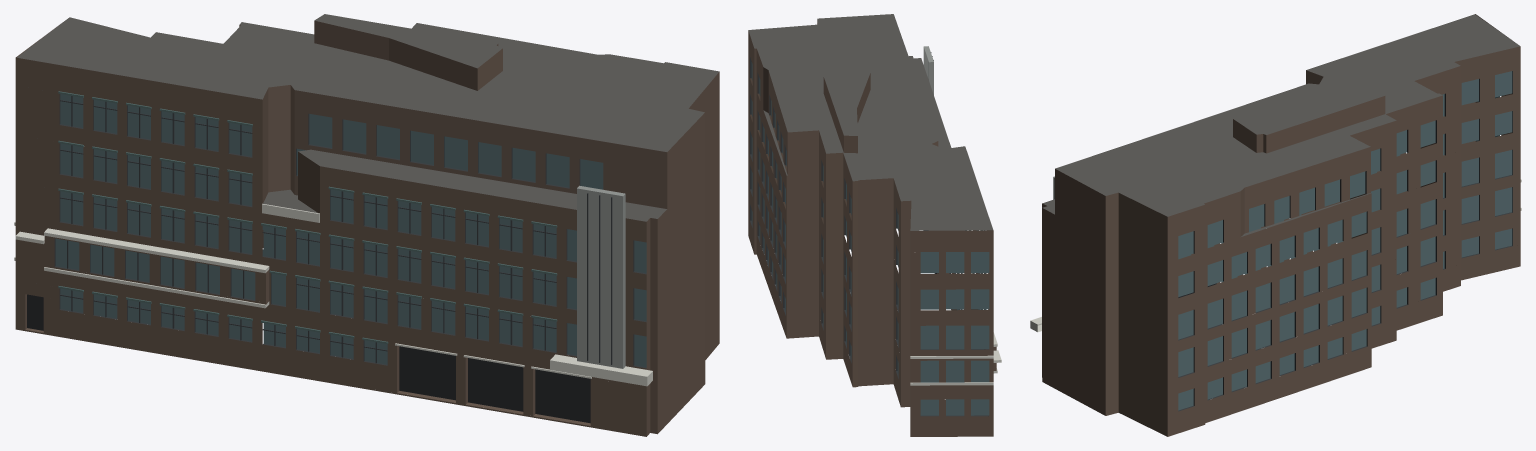
The model's file is politie-lijnbaansgracht.glb.
The picture shows the model from 3 angles, left to right: view 1: azimuth 30°, elevation 25°; view 2: azimuth 150°, elevation 25°; view 3: azimuth 270°, elevation 25°; orthographic projection. The views are drawn at different scales.
Parts seen in each view (by area): view 1: politie-lijnbaansgracht; view 2: politie-lijnbaansgracht; view 3: politie-lijnbaansgracht.
Boxes of the visible parts, x1=… form: politie-lijnbaansgracht: x1=14, y1=14, x2=719, y2=436; politie-lijnbaansgracht: x1=748, y1=14, x2=1001, y2=436; politie-lijnbaansgracht: x1=1030, y1=14, x2=1521, y2=436.
Size of the model in its own units: 39.65 by 21.5 by 40.17.
